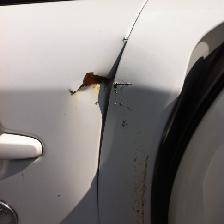dent: (68, 53, 135, 129)
